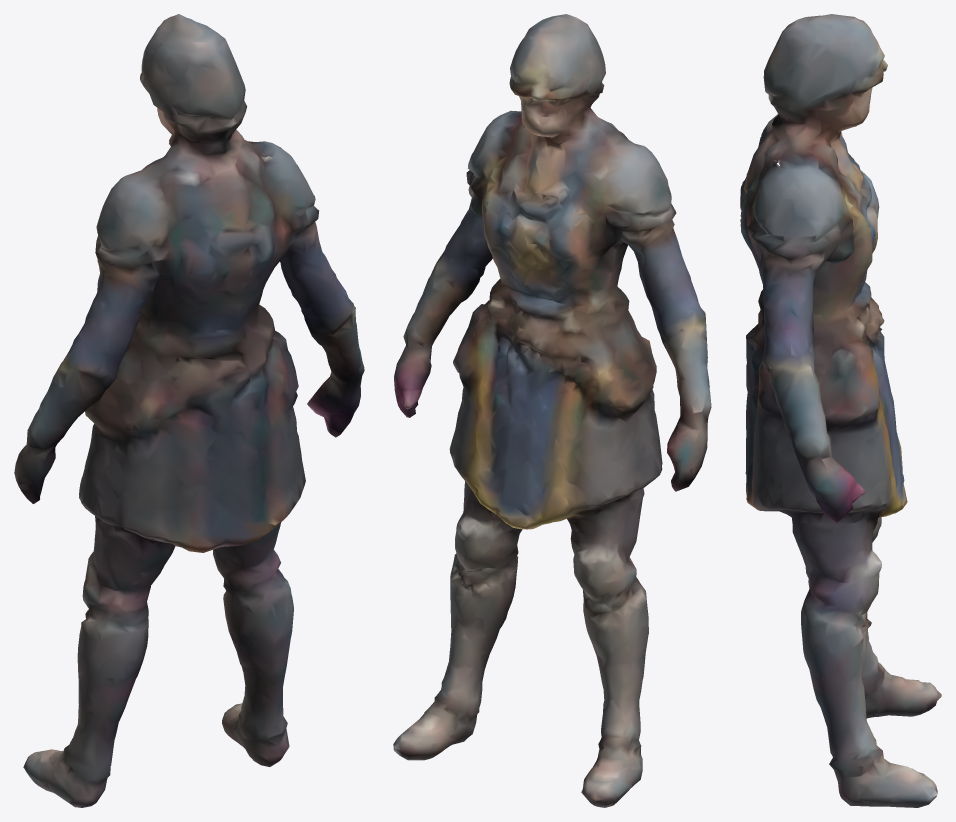
Rendered from npc_02_guarda_feminina.glb.
3 views of the same model, side by side, from view 1: azimuth 30°, elevation 25°; view 2: azimuth 150°, elevation 25°; view 3: azimuth 270°, elevation 25° (orthographic). The views are drawn at different scales.
Size of the model in its own units: 0.4328 by 0.9661 by 0.237.
